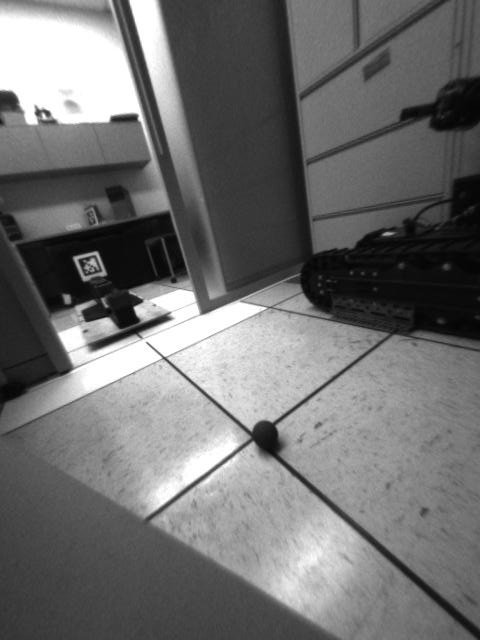dogtoy: (243, 411, 296, 461)
